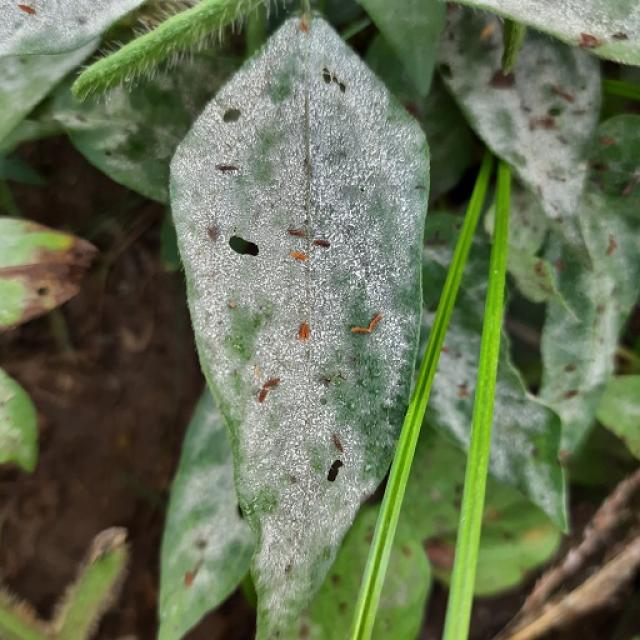Blackgram: (170, 16, 428, 639)
Powdery_Mildew: (236, 227, 378, 492), (291, 2, 319, 342), (339, 89, 420, 196), (278, 153, 359, 236), (287, 228, 332, 364), (211, 82, 282, 153), (275, 500, 348, 565), (587, 134, 639, 201), (273, 261, 328, 320), (300, 56, 315, 247), (178, 154, 227, 209), (288, 230, 331, 266), (386, 206, 419, 243), (203, 221, 222, 281), (328, 433, 347, 482), (254, 367, 280, 402), (350, 313, 383, 334), (321, 67, 345, 91), (185, 559, 204, 587), (529, 114, 558, 132), (297, 321, 311, 352), (550, 86, 575, 103), (321, 372, 346, 388), (621, 175, 639, 197), (547, 168, 569, 182), (605, 235, 618, 256), (299, 11, 311, 32), (456, 382, 470, 398), (534, 261, 548, 277), (217, 164, 239, 174), (207, 226, 219, 242), (288, 228, 307, 238), (208, 269, 218, 285), (563, 389, 578, 399), (320, 376, 332, 386), (304, 155, 311, 170)
